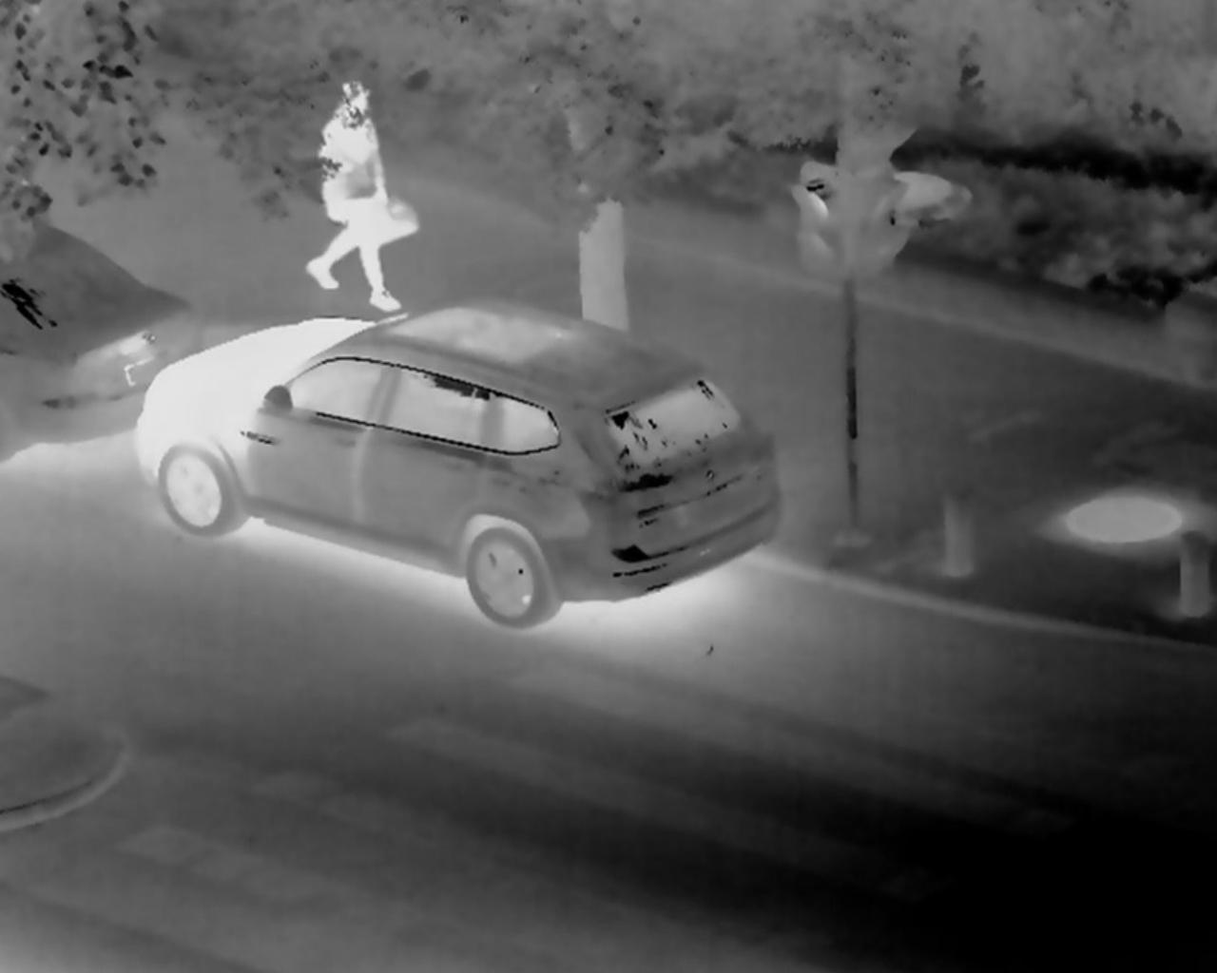person: (308, 73, 400, 315)
